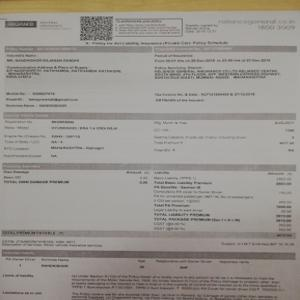image: (3, 19, 38, 28)
table: (3, 162, 297, 232), (2, 45, 296, 108), (4, 111, 294, 162), (3, 248, 295, 297)
